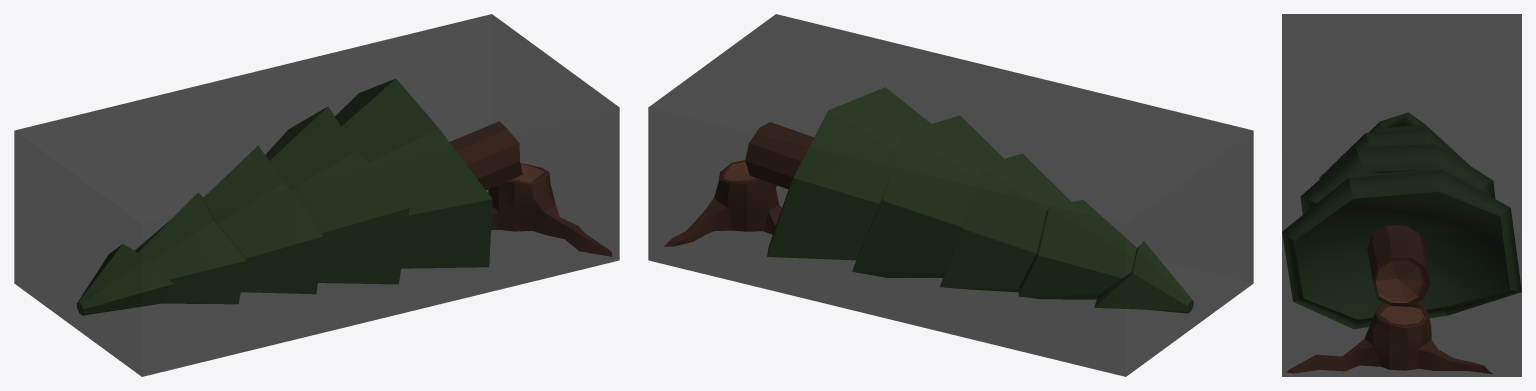
Rendered from BrokenTree.fbx.
3 views of the same model, side by side, from view 1: azimuth 30°, elevation 25°; view 2: azimuth 150°, elevation 25°; view 3: azimuth 270°, elevation 25° (orthographic). The views are drawn at different scales.
Parts seen in each view (by area): view 1: BrokenTree_BBox, BrokenTree; view 2: BrokenTree_BBox, BrokenTree; view 3: BrokenTree_BBox, BrokenTree.
Boxes of the visible parts, x1=… form: BrokenTree_BBox: x1=14, y1=14, x2=619, y2=376; BrokenTree: x1=77, y1=79, x2=612, y2=315; BrokenTree_BBox: x1=648, y1=14, x2=1253, y2=376; BrokenTree: x1=664, y1=87, x2=1193, y2=313; BrokenTree_BBox: x1=1282, y1=14, x2=1521, y2=376; BrokenTree: x1=1282, y1=112, x2=1521, y2=374.
Size of the model in its own units: 27.31 by 8.36 by 12.64.
2 materials, 1 textured.
